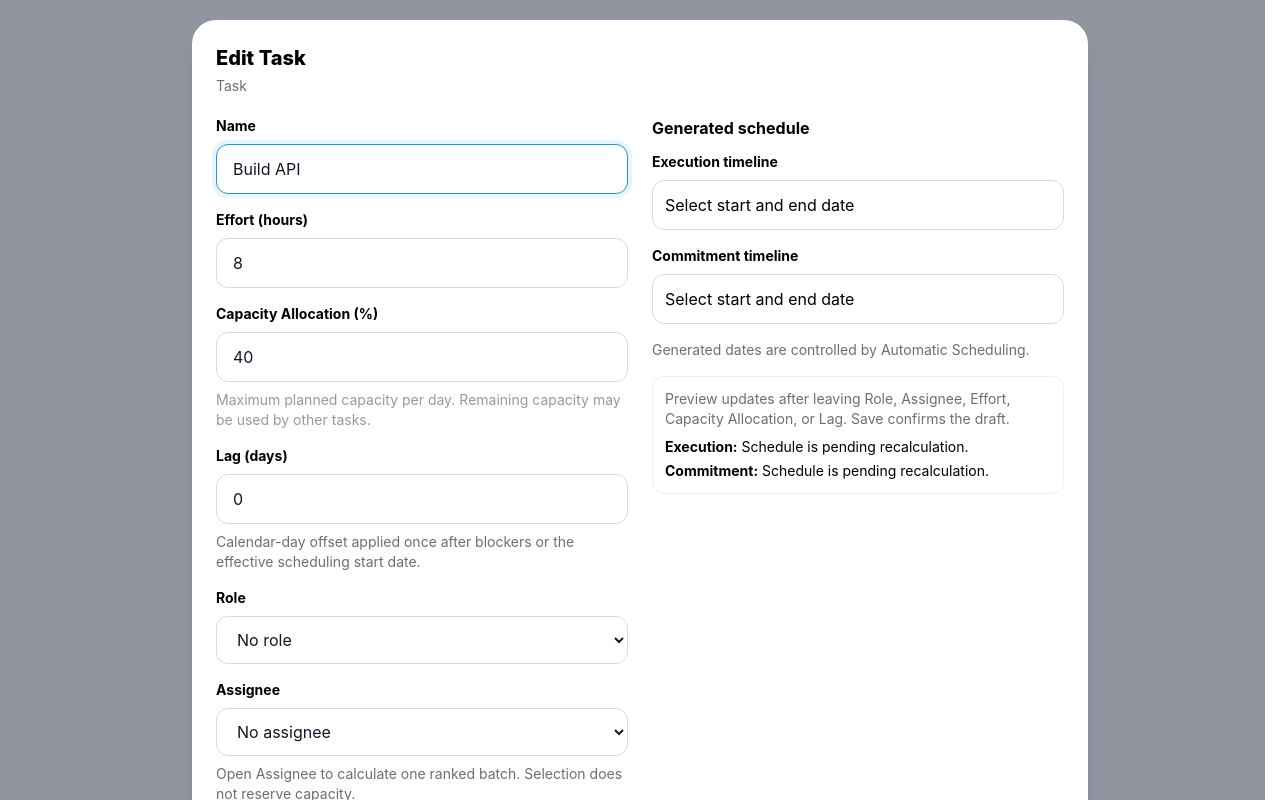
Test case: WBSDetailDialog assignee recommendation › D07 AC7 keeps candidates alphabetical when Automatic Scheduling has no anchor
Focus the dropdown labelled "Assignee" at (422,732), box [216, 708, 628, 756]
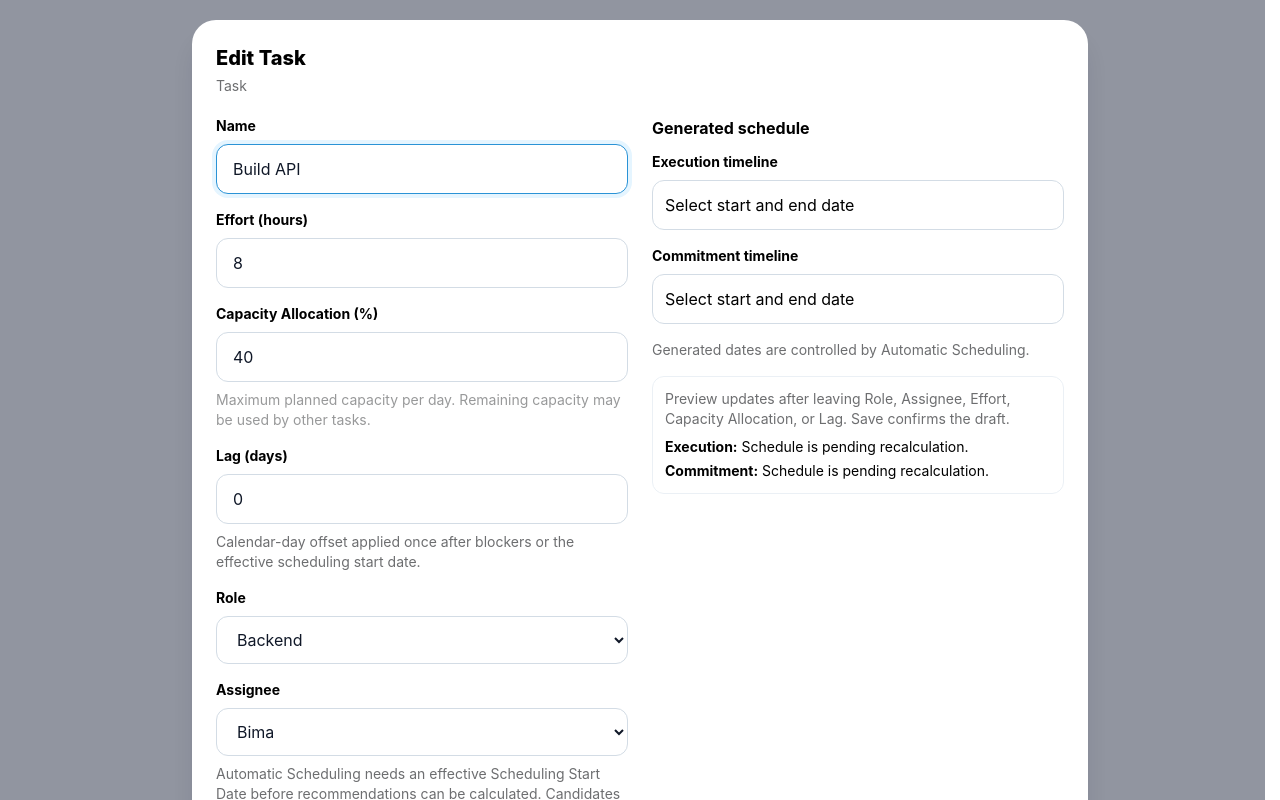
Expected: the text "Automatic Scheduling needs an effective Scheduling Start Date" is shown, [216, 765, 620, 799]
Expected: the dropdown labelled "Assignee" shows "Bima", [216, 708, 628, 756]
